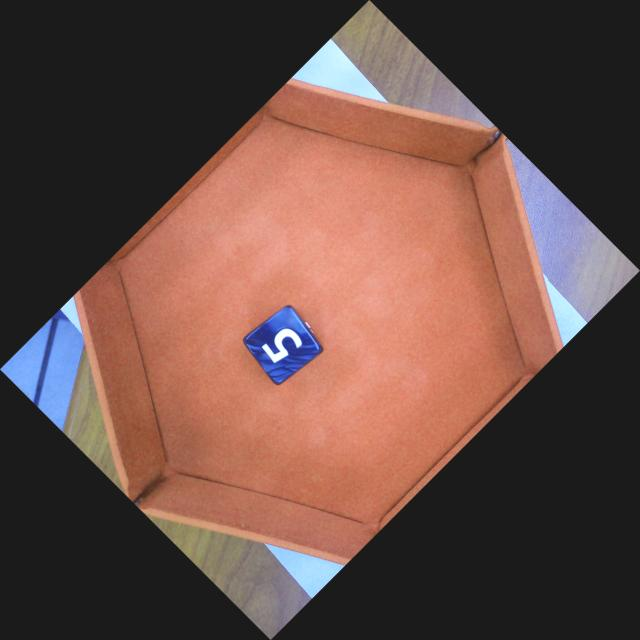dice: (246, 304, 323, 381)
